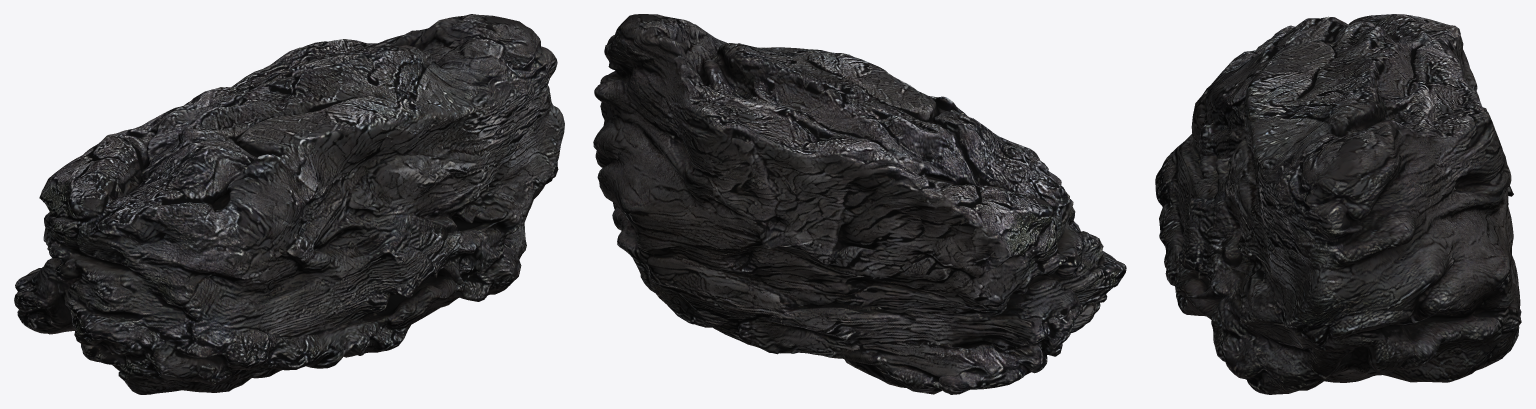
The model's file is rock_source.glb.
3 renders of one model, left to right at view 1: azimuth 30°, elevation 25°; view 2: azimuth 150°, elevation 25°; view 3: azimuth 270°, elevation 25°, orthographic. The views are drawn at different scales.
Visible parts, largest first — view 1: SOURCE_rock; view 2: SOURCE_rock; view 3: SOURCE_rock.
Part boxes in pixels (box(x1,y1,x2,y2)): SOURCE_rock: box(14, 14, 564, 394); SOURCE_rock: box(593, 14, 1126, 394); SOURCE_rock: box(1155, 14, 1521, 394).
Size of the model in its own units: 2.02 by 1 by 1.09.
Materials: 1 (1 with a texture image).
